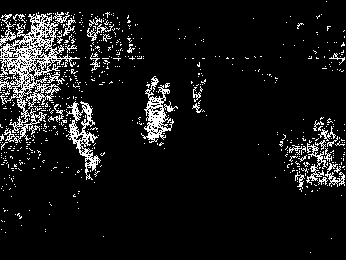person: (70, 100, 103, 181)
